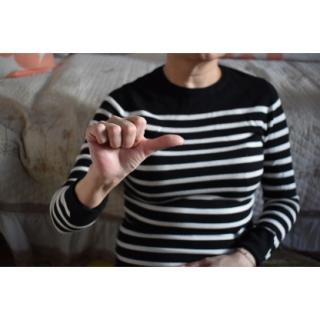DAD: (83, 113, 186, 186)
